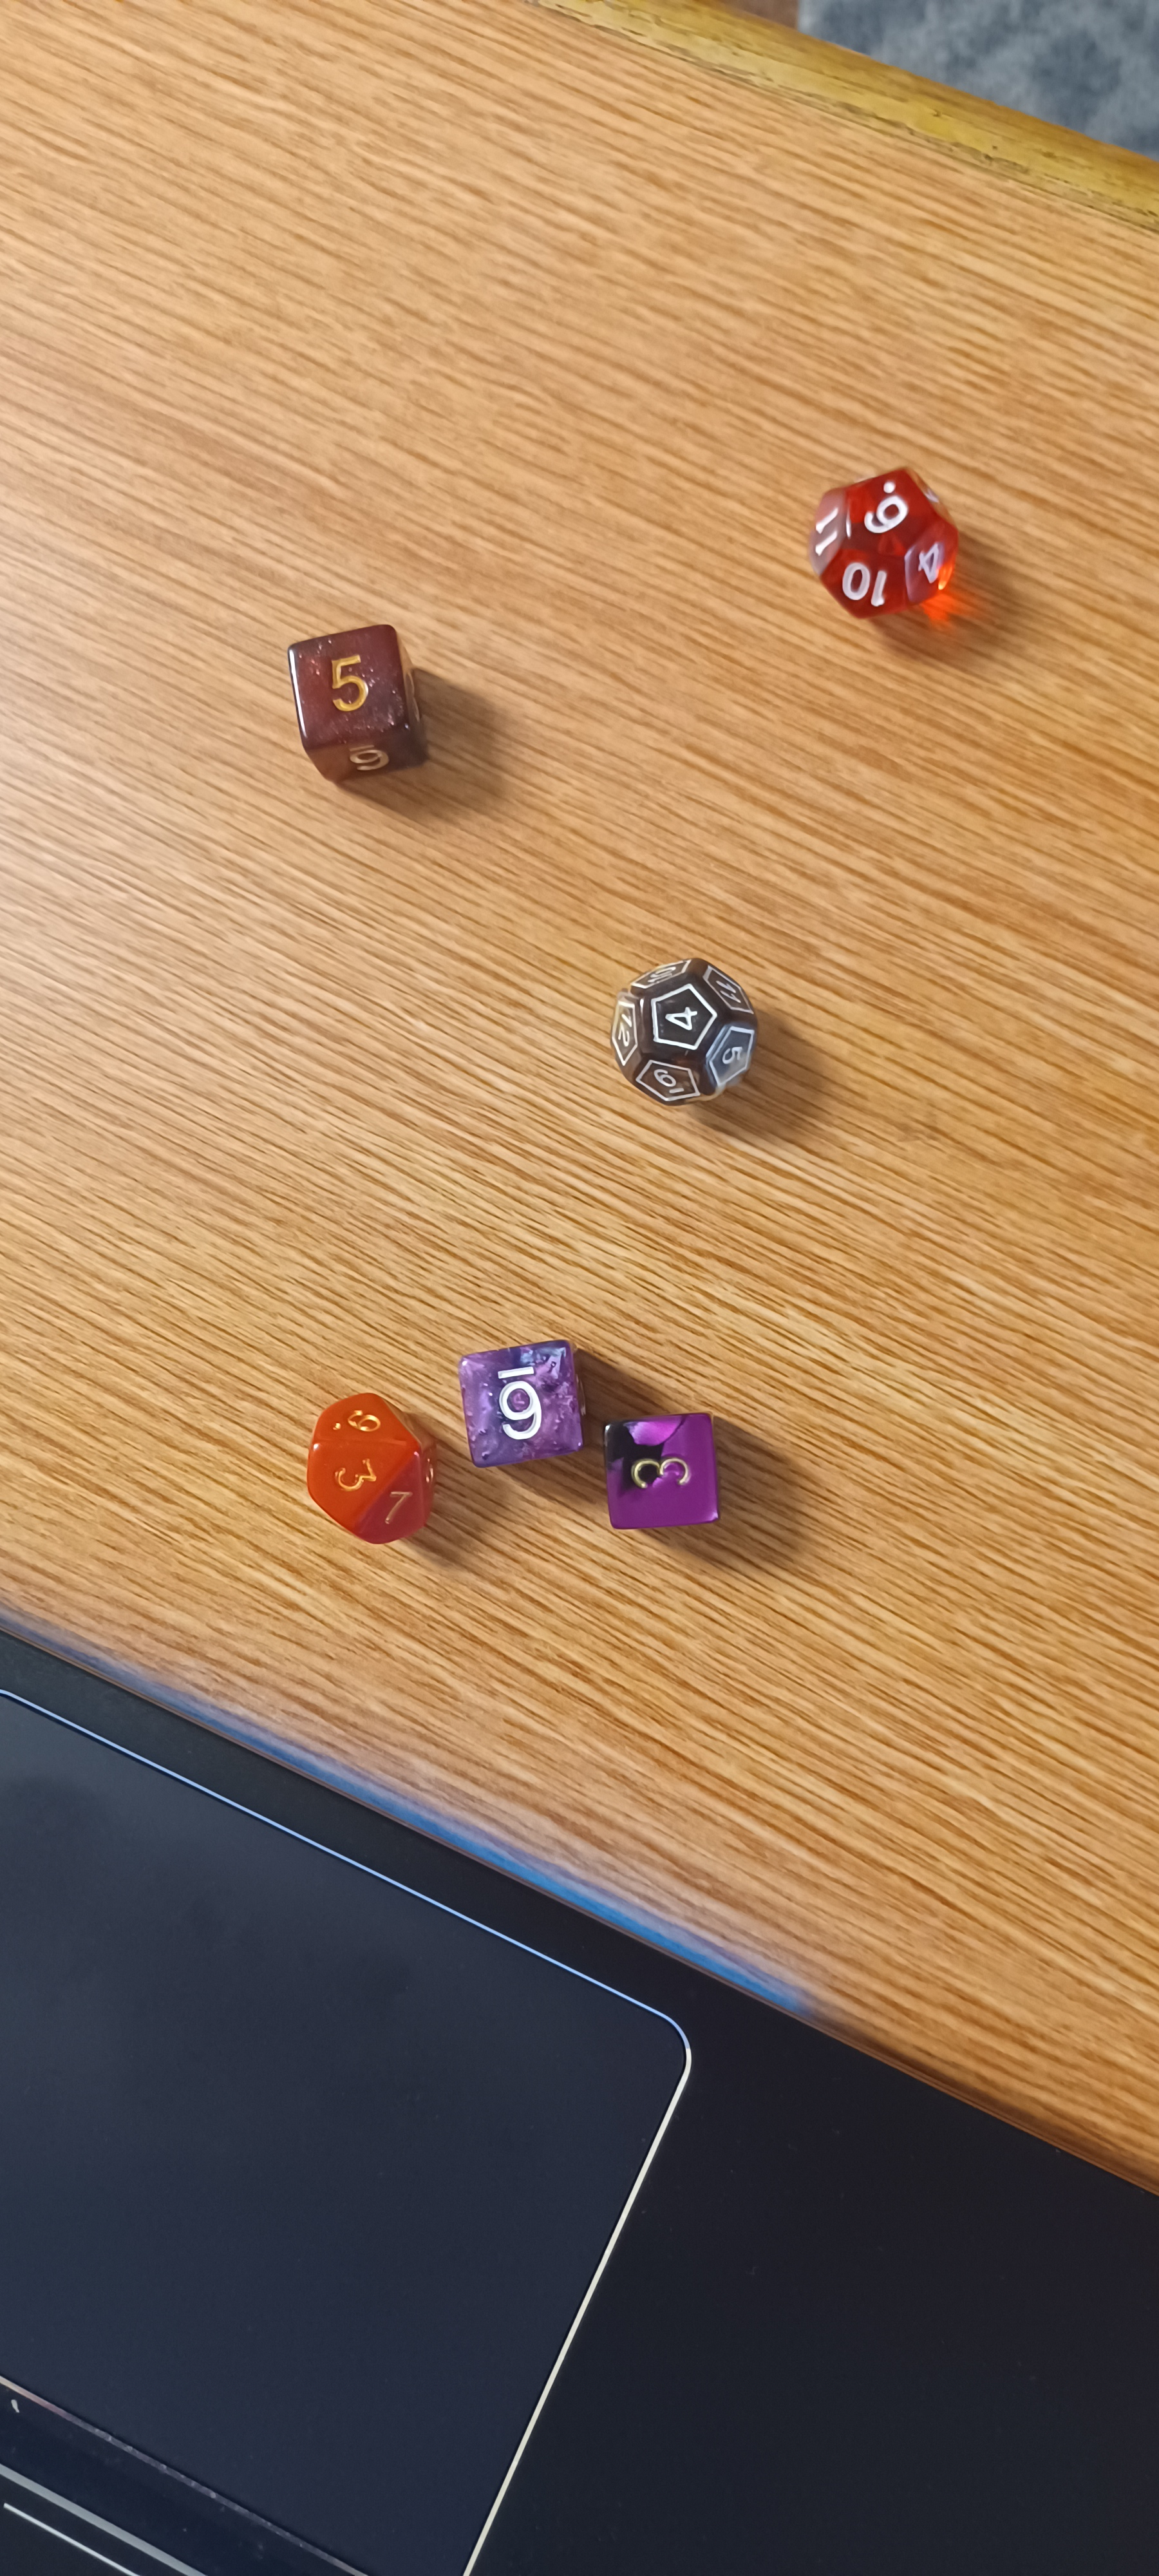five: (248, 588, 460, 800)
four: (565, 938, 821, 1127)
six: (768, 430, 1003, 674), (438, 1321, 614, 1483)
three: (253, 1365, 466, 1556), (591, 1396, 744, 1551)
